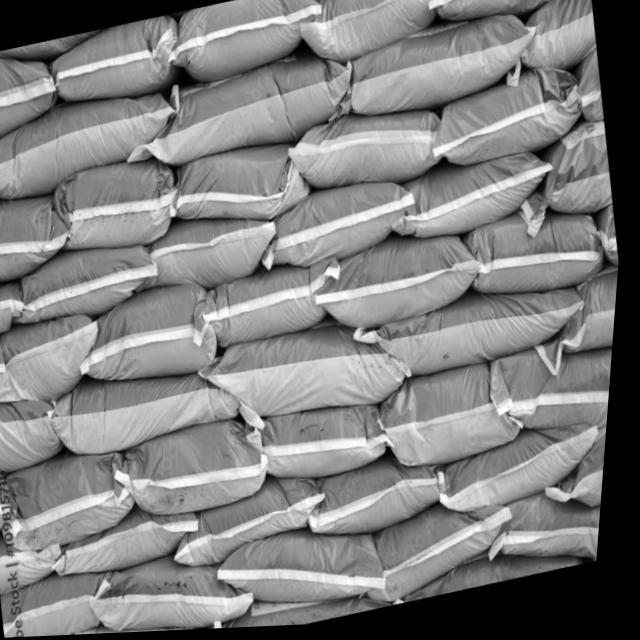sack: (117, 48, 364, 175), (196, 310, 424, 442), (321, 10, 548, 131), (354, 280, 596, 392), (0, 81, 193, 208), (48, 352, 252, 465), (309, 223, 494, 341), (218, 514, 401, 631), (112, 412, 283, 528), (422, 62, 594, 177), (377, 359, 538, 479), (73, 277, 231, 397), (282, 96, 452, 207), (256, 173, 427, 280), (438, 419, 614, 522), (374, 491, 531, 606), (387, 149, 564, 250), (172, 471, 342, 574), (0, 445, 151, 558), (92, 540, 269, 635), (164, 135, 318, 243), (246, 392, 407, 495), (463, 202, 613, 312), (50, 150, 189, 264), (157, 0, 331, 91), (487, 334, 619, 450), (11, 234, 168, 331), (199, 258, 354, 354), (143, 203, 290, 302), (44, 15, 188, 114), (307, 452, 453, 549), (486, 477, 611, 588), (508, 123, 623, 243), (52, 500, 213, 583), (291, 0, 461, 72), (0, 309, 114, 414), (216, 573, 403, 631), (529, 274, 623, 384), (494, 0, 605, 92), (6, 566, 121, 638), (0, 190, 82, 288), (541, 421, 614, 519), (0, 46, 67, 151), (0, 387, 74, 477), (30, 605, 223, 638), (417, 0, 592, 35), (0, 526, 77, 595), (0, 272, 34, 341)
